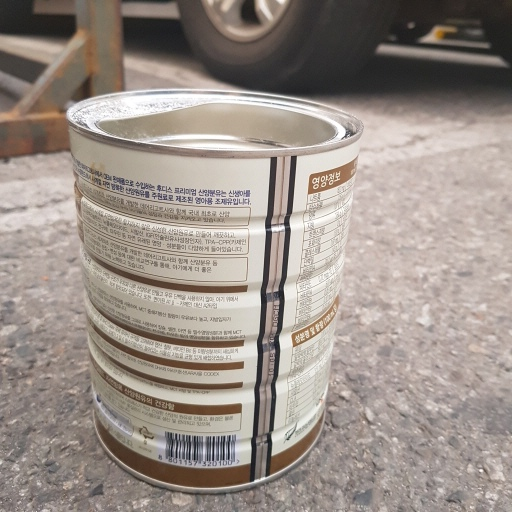Metal_1: (65, 86, 367, 491)
